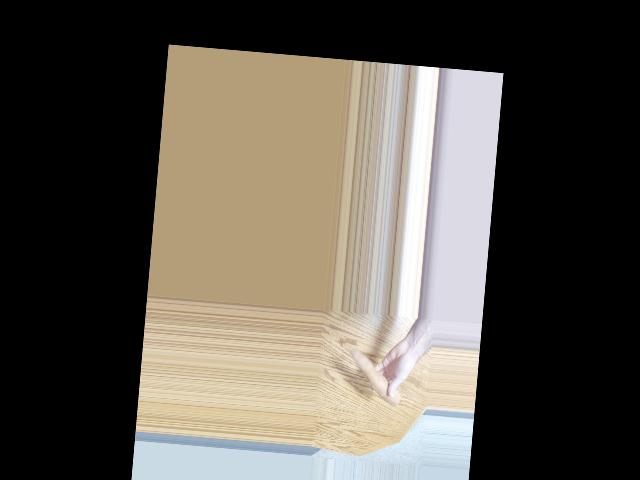sweet_potato: (347, 349, 405, 404)
